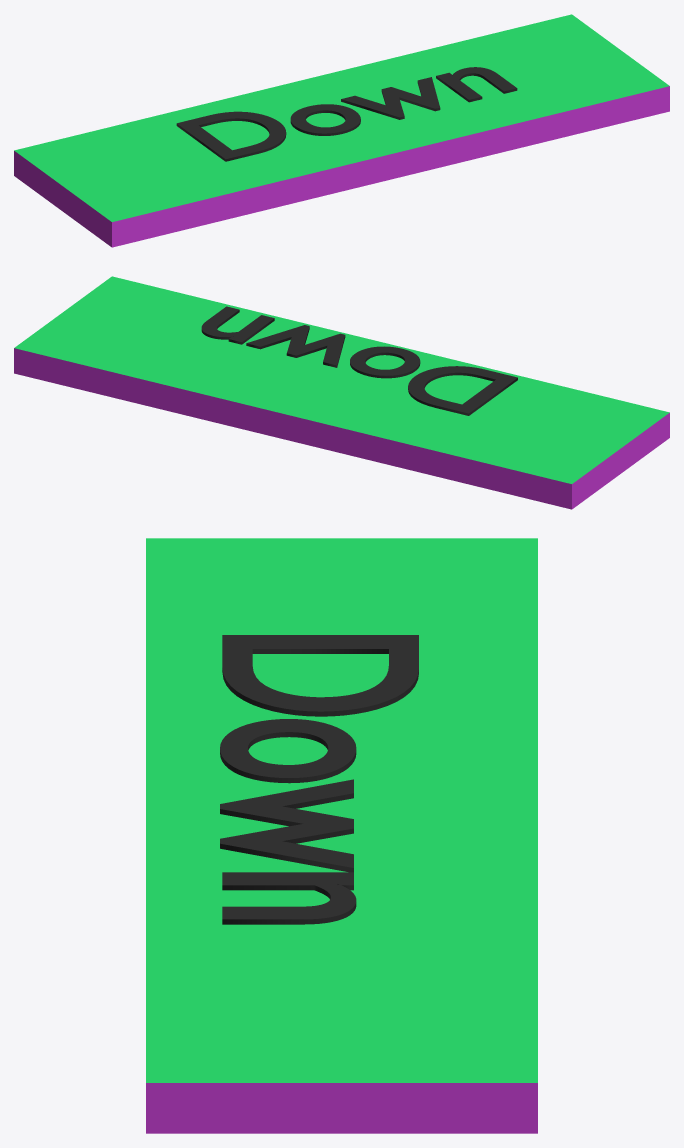
The model's file is down.glb.
The picture shows the model from 3 angles, top to bottom: view 1: azimuth 30°, elevation 25°; view 2: azimuth 150°, elevation 25°; view 3: azimuth 270°, elevation 25°; orthographic projection. The views are drawn at different scales.
Parts seen in each view (by area): view 1: Cube.005, Text; view 2: Cube.005, Text; view 3: Cube.005, Text.
Boxes of the visible parts, x1=… form: Cube.005: x1=14, y1=14, x2=669, y2=247; Text: x1=176, y1=67, x2=517, y2=161; Cube.005: x1=14, y1=276, x2=669, y2=509; Text: x1=201, y1=306, x2=517, y2=415; Cube.005: x1=146, y1=538, x2=537, y2=1133; Text: x1=220, y1=635, x2=418, y2=924.
Bounding box in the file's own units: 4.6 × 0.3302 × 1.4.
